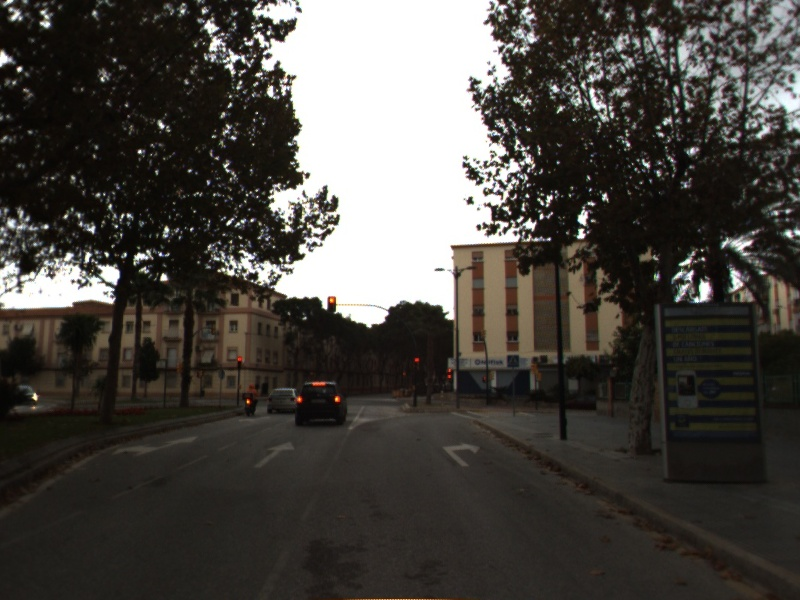RIGHT: (441, 441, 483, 468)
STRAIGHT: (253, 440, 297, 469)
STRAIGHT_LEFT: (110, 434, 200, 457)
